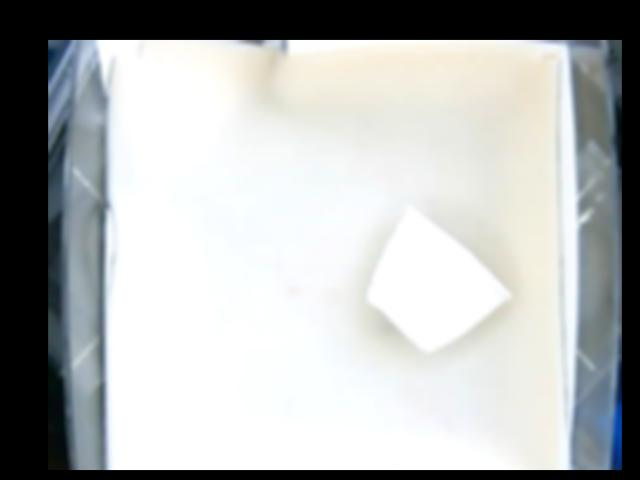Cup: (364, 203, 513, 350)
